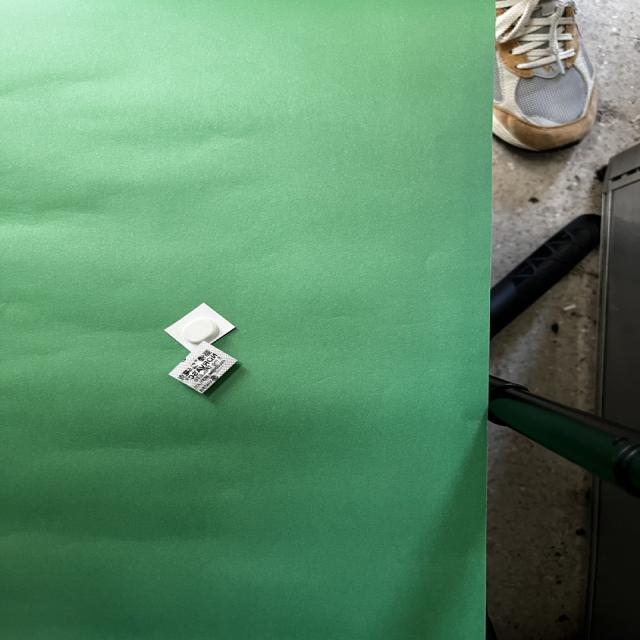Other Objects: (169, 340, 237, 394), (165, 303, 235, 352)
